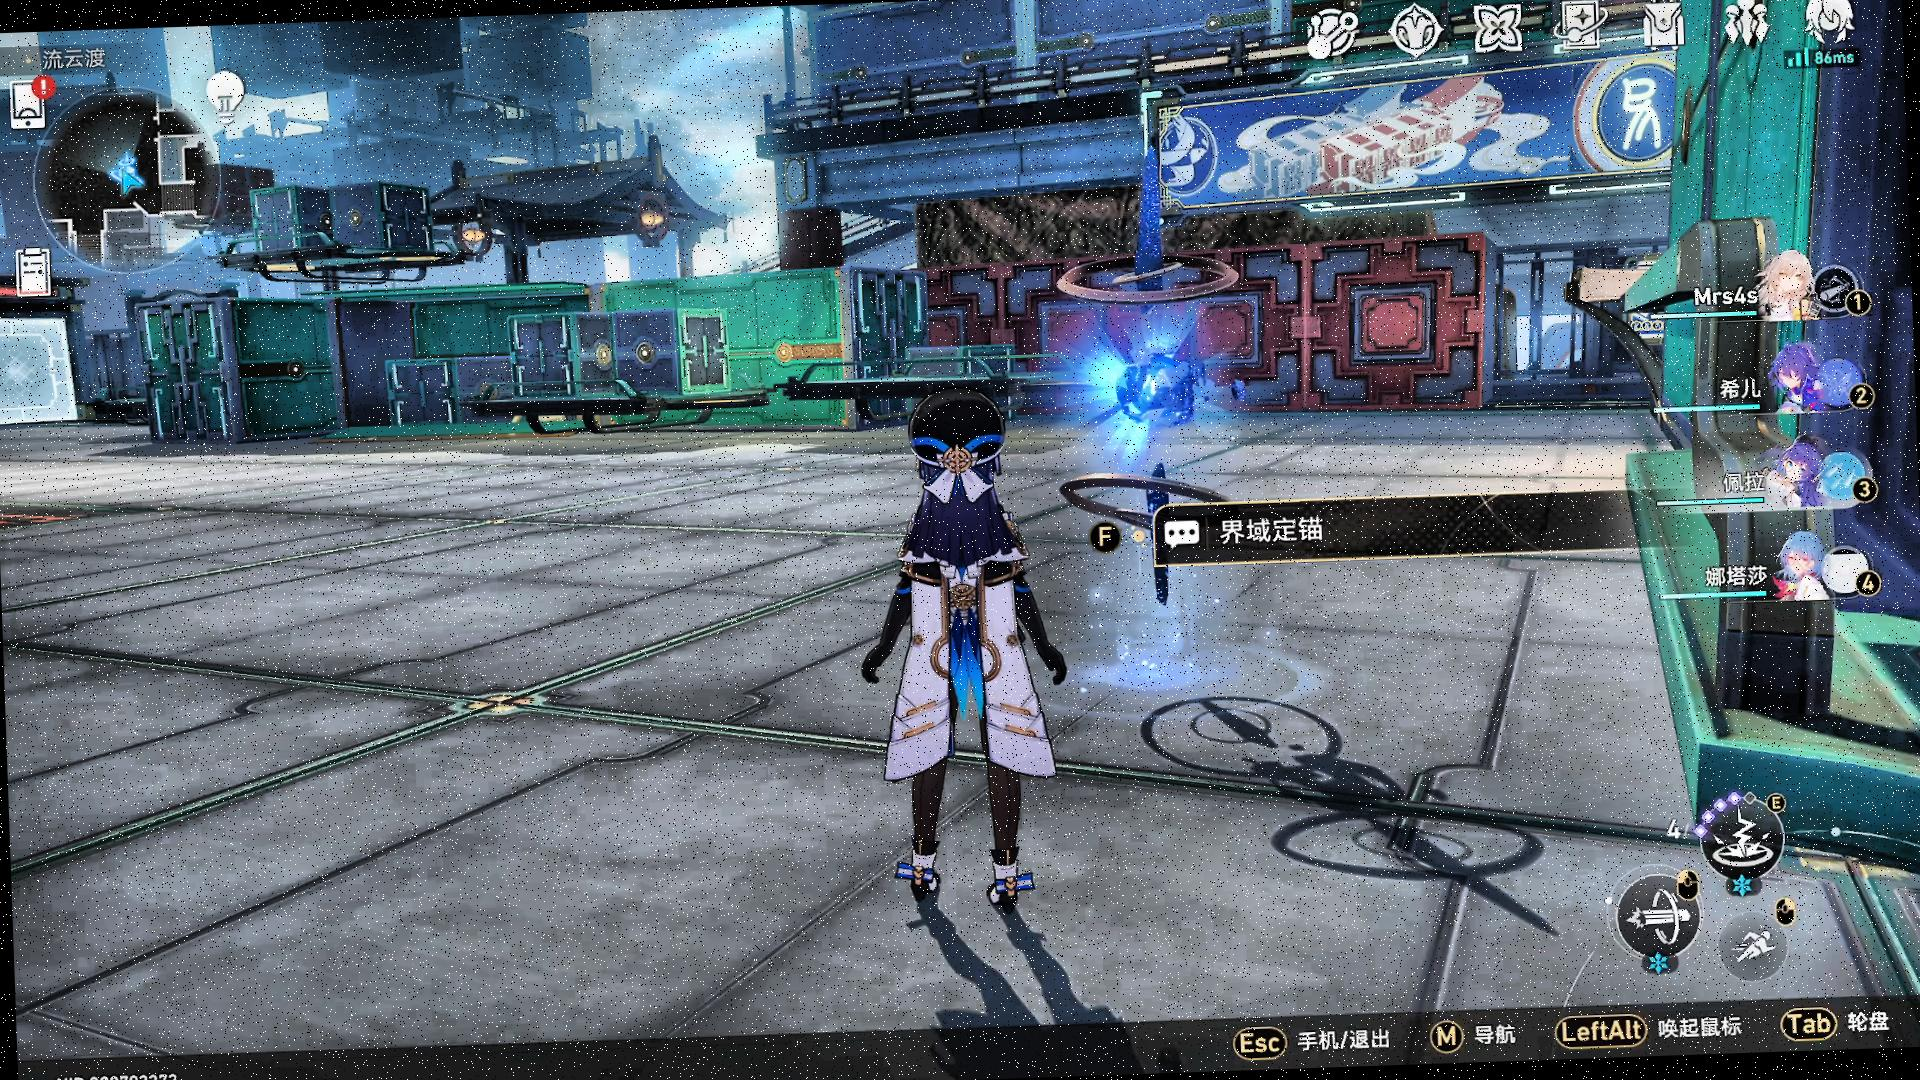Self: (856, 381, 1081, 949)
